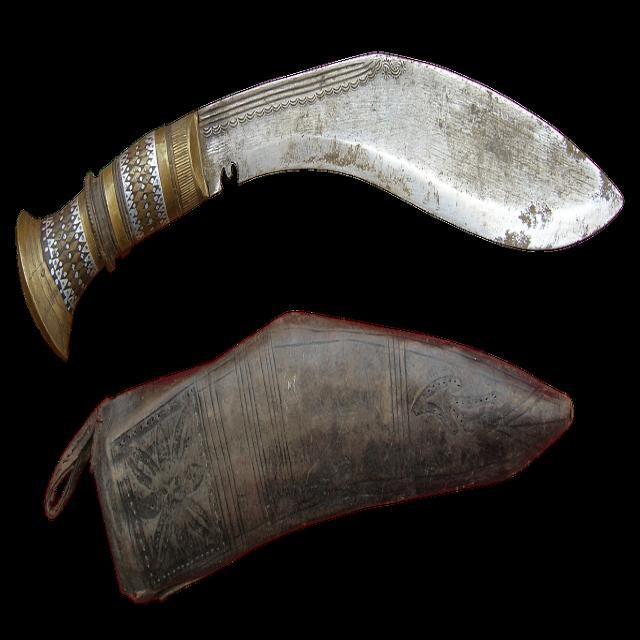Knife: (18, 54, 622, 357), (48, 312, 572, 601)
